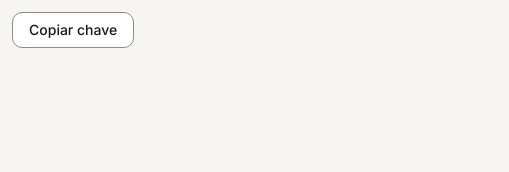
it: CopyPixKey › avisa quando o navegador não deixa copiar
Click the button "Copiar chave".
click(73, 30)  # box [12,12,134,48]
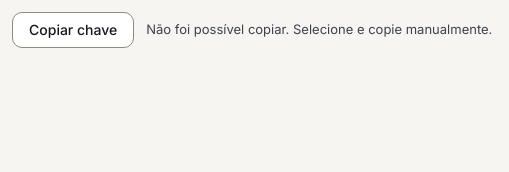
expect the message reads "Não foi possível copiar. Selecione e copie manualmente.": met, box [146,21,492,37]
